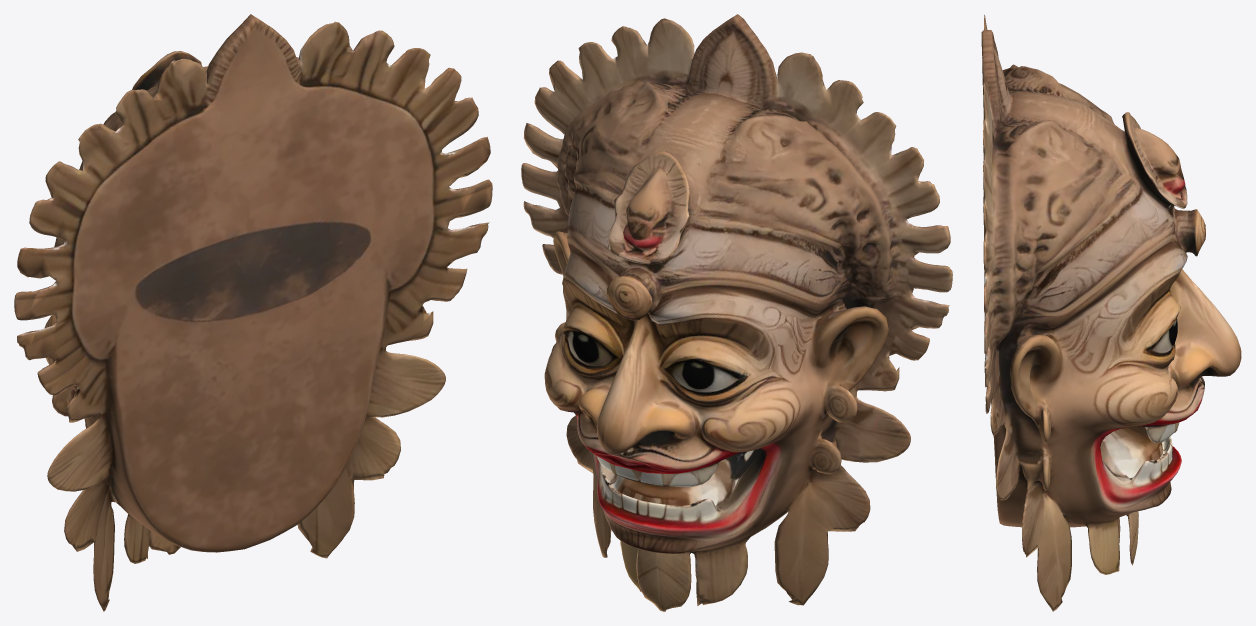
The model's file is barong.glb.
3 views of the same model, side by side, from view 1: azimuth 30°, elevation 25°; view 2: azimuth 150°, elevation 25°; view 3: azimuth 270°, elevation 25° (orthographic). The views are drawn at different scales.
Parts seen in each view (by area): view 1: Balinese mask wood Rodin PBR_Material.014_0; view 2: Balinese mask wood Rodin PBR_Material.014_0; view 3: Balinese mask wood Rodin PBR_Material.014_0.
Part boxes in pixels (box(x1,y1,x2,y2)): Balinese mask wood Rodin PBR_Material.014_0: box(14, 14, 492, 611); Balinese mask wood Rodin PBR_Material.014_0: box(521, 14, 952, 611); Balinese mask wood Rodin PBR_Material.014_0: box(981, 14, 1241, 611).
Size of the model in its own units: 1.57 by 1.88 by 0.8272.
1 material, 1 textured.
